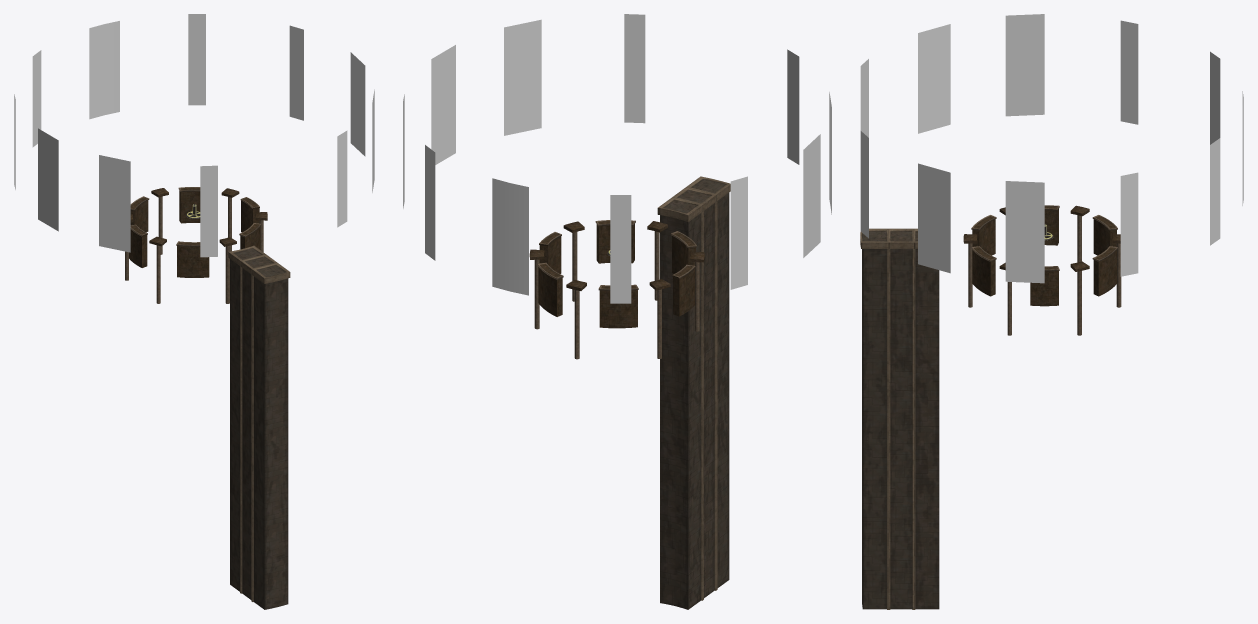
Rendered from batallaMesh1.fbx.
The picture shows the model from 3 angles, left to right: view 1: azimuth 30°, elevation 25°; view 2: azimuth 150°, elevation 25°; view 3: azimuth 270°, elevation 25°; orthographic projection. The views are drawn at different scales.
Visible parts, largest first — view 1: ventanas, puente pieza 3.002, puente pieza 2.002, puente pieza 1.002, plataformas 2.1 bake.001, plataformas 2.1 bake.003, plataformas 2.2 bake, plataformas 2.1 bake, plataformas 2.2 bake.001; view 2: ventanas, puente pieza 1.002, puente pieza 3.002, puente pieza 2.002, plataformas 2.1 bake, plataformas 2.1 bake.003, plataformas 2.2 bake, plataformas 2.1 bake.002, plataformas 2.1 bake.001, plataformas 2.2 bake.001, plaataformas 1 bake.004; view 3: ventanas, puente pieza 3.002, puente pieza 2.002, puente pieza 1.002, plataformas 2.1 bake.003, plataformas 2.1 bake.002, plataformas 2.2 bake.001, plataformas 2.1 bake, plataformas 2.1 bake.001, plataformas 2.2 bake.
Part boxes in pixels (bbox=[...]): ventanas: bbox=[14, 14, 374, 257]; puente pieza 3.002: bbox=[252, 263, 290, 609]; puente pieza 2.002: bbox=[240, 254, 277, 601]; puente pieza 1.002: bbox=[228, 245, 265, 592]; plataformas 2.1 bake.001: bbox=[176, 241, 209, 277]; plataformas 2.1 bake.003: bbox=[178, 187, 200, 223]; plataformas 2.2 bake: bbox=[129, 224, 147, 267]; plataformas 2.1 bake: bbox=[130, 196, 149, 232]; plataformas 2.2 bake.001: bbox=[240, 197, 259, 232]; ventanas: bbox=[403, 14, 831, 303]; puente pieza 1.002: bbox=[657, 197, 702, 609]; puente pieza 3.002: bbox=[686, 176, 730, 589]; puente pieza 2.002: bbox=[672, 187, 716, 599]; plataformas 2.1 bake: bbox=[598, 284, 638, 328]; plataformas 2.1 bake.003: bbox=[537, 262, 563, 316]; plataformas 2.2 bake: bbox=[672, 264, 695, 316]; plataformas 2.1 bake.002: bbox=[595, 220, 635, 263]; plataformas 2.1 bake.001: bbox=[670, 231, 696, 273]; plataformas 2.2 bake.001: bbox=[539, 232, 561, 273]; plaataformas 1 bake.004: bbox=[566, 280, 586, 359]; ventanas: bbox=[860, 14, 1243, 283]; puente pieza 3.002: bbox=[860, 228, 888, 609]; puente pieza 2.002: bbox=[888, 228, 913, 609]; puente pieza 1.002: bbox=[914, 228, 939, 609]; plataformas 2.1 bake.003: bbox=[1092, 246, 1117, 296]; plataformas 2.1 bake.002: bbox=[971, 246, 996, 296]; plataformas 2.2 bake.001: bbox=[1030, 266, 1059, 306]; plataformas 2.1 bake: bbox=[1092, 215, 1117, 255]; plataformas 2.1 bake.001: bbox=[971, 215, 996, 255]; plataformas 2.2 bake: bbox=[1044, 205, 1059, 245].
Size of the model in its own units: 2067 by 2886 by 1987.
Materials: 9 (9 with a texture image).
